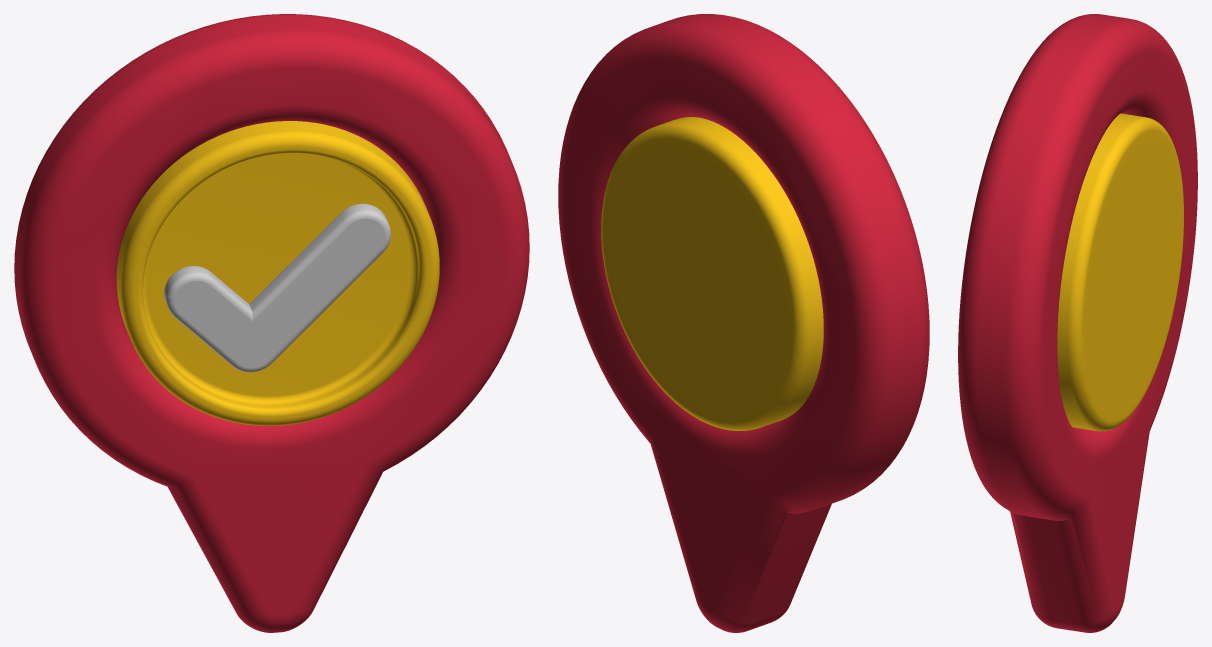
The model's file is destination.glb.
3 renders of one model, left to right at view 1: azimuth 30°, elevation 25°; view 2: azimuth 150°, elevation 25°; view 3: azimuth 270°, elevation 25°, orthographic.
Parts seen in each view (by area): view 1: Circle, Cylinder, Curve; view 2: Circle, Cylinder; view 3: Circle, Cylinder.
Part boxes in pixels (box(x1,y1,x2,y2)): Circle: box(14, 14, 529, 632); Cylinder: box(116, 121, 439, 425); Curve: box(164, 203, 390, 372); Circle: box(558, 14, 929, 632); Cylinder: box(601, 117, 823, 430); Circle: box(958, 14, 1197, 632); Cylinder: box(1057, 113, 1183, 431).
Size of the model in its own units: 0.6698 by 0.8869 by 0.3274.
